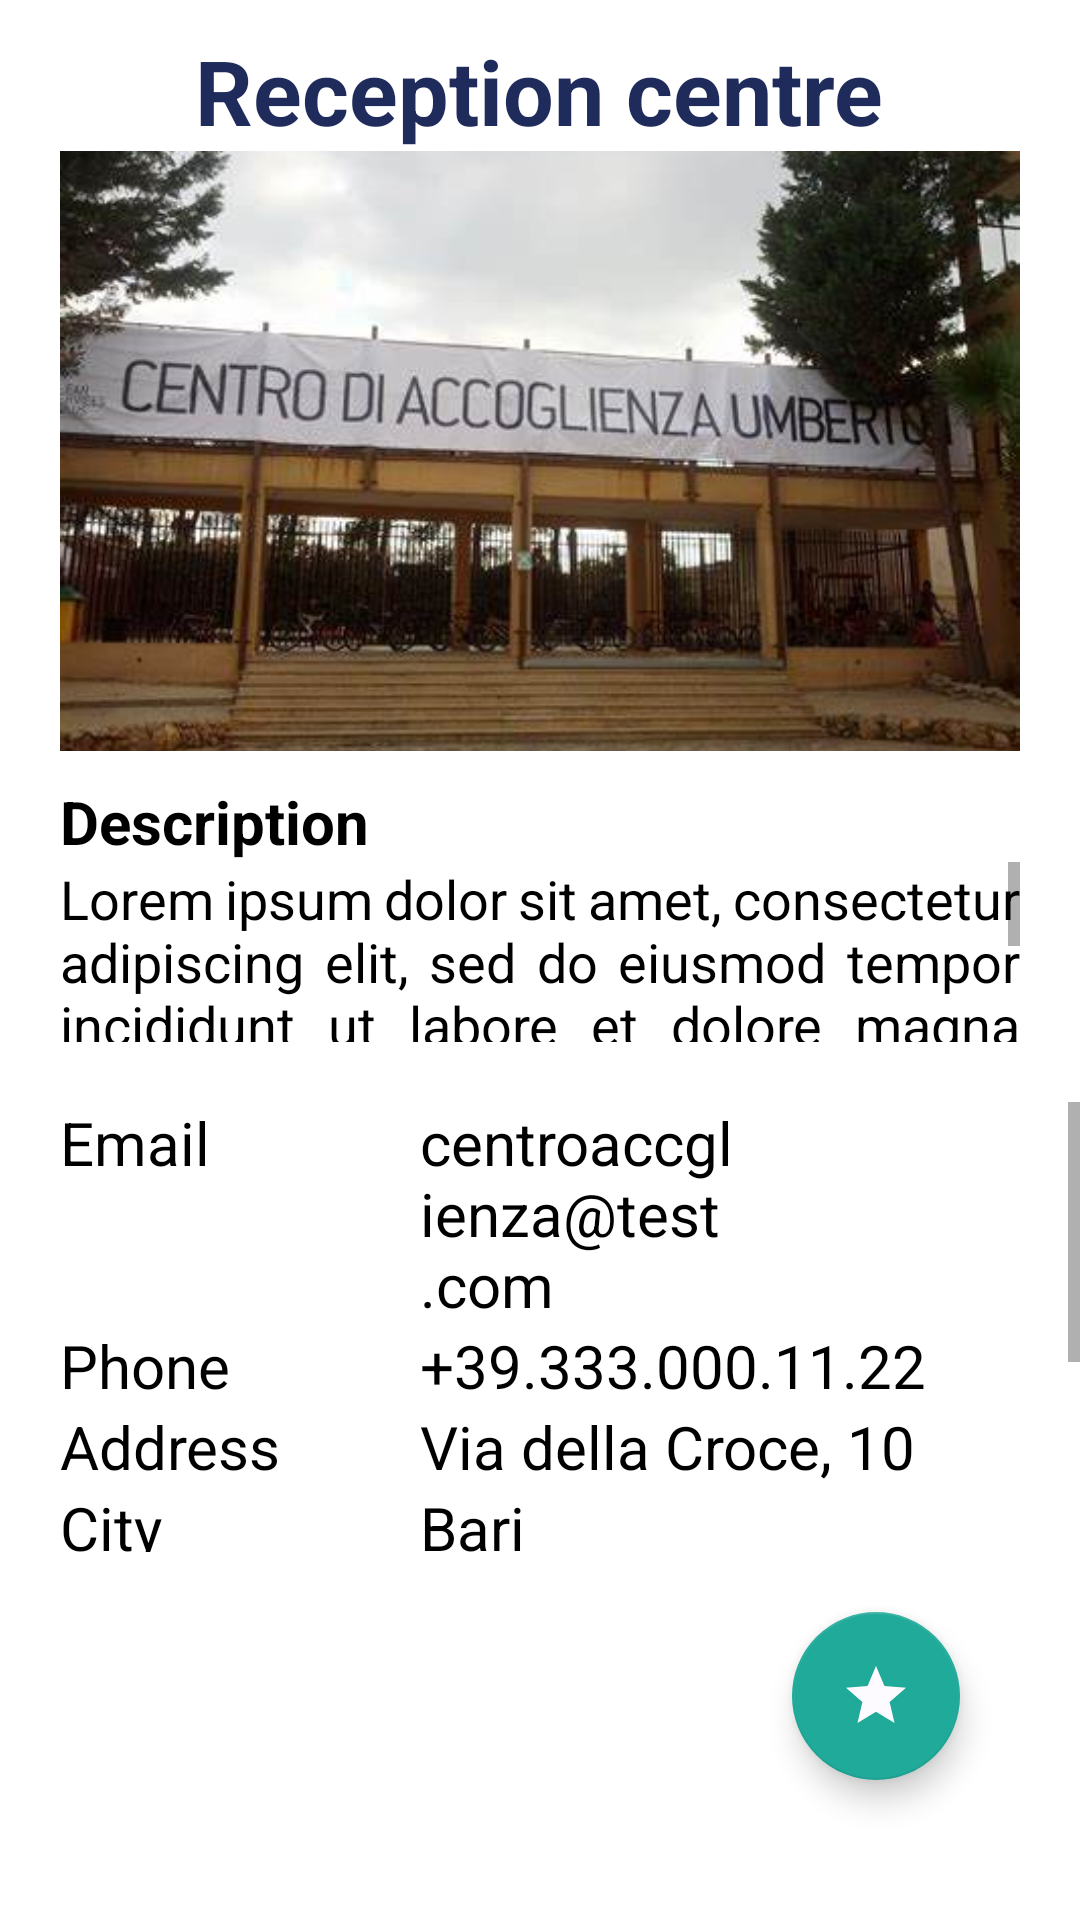

Screen size 1080w x 1920h. Icon name, then its center in pixels as (x,y):
star: (876,1696)
